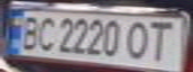0: (103, 17, 127, 60)
2: (87, 16, 109, 56), (69, 15, 90, 56), (54, 15, 75, 54)
B: (15, 12, 42, 51)
C: (33, 14, 60, 53)
O: (124, 18, 157, 61)
T: (142, 18, 184, 63)
